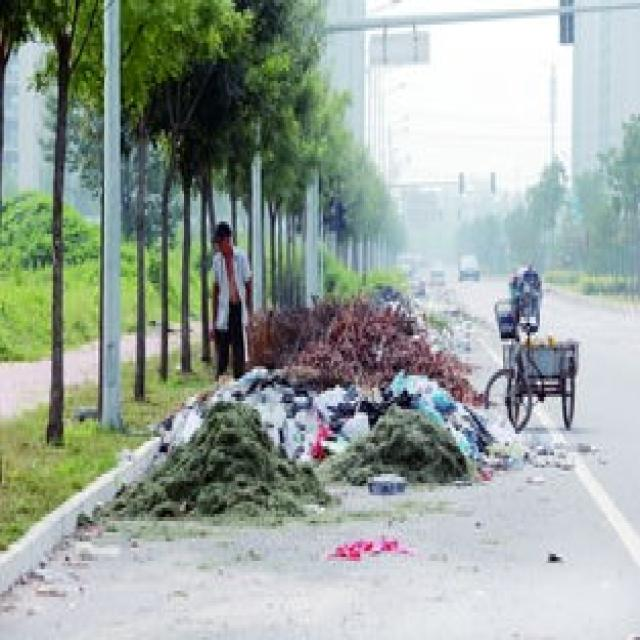garbage: (164, 363, 472, 520), (258, 289, 468, 400), (120, 443, 207, 526), (479, 425, 599, 477), (323, 523, 407, 566)
